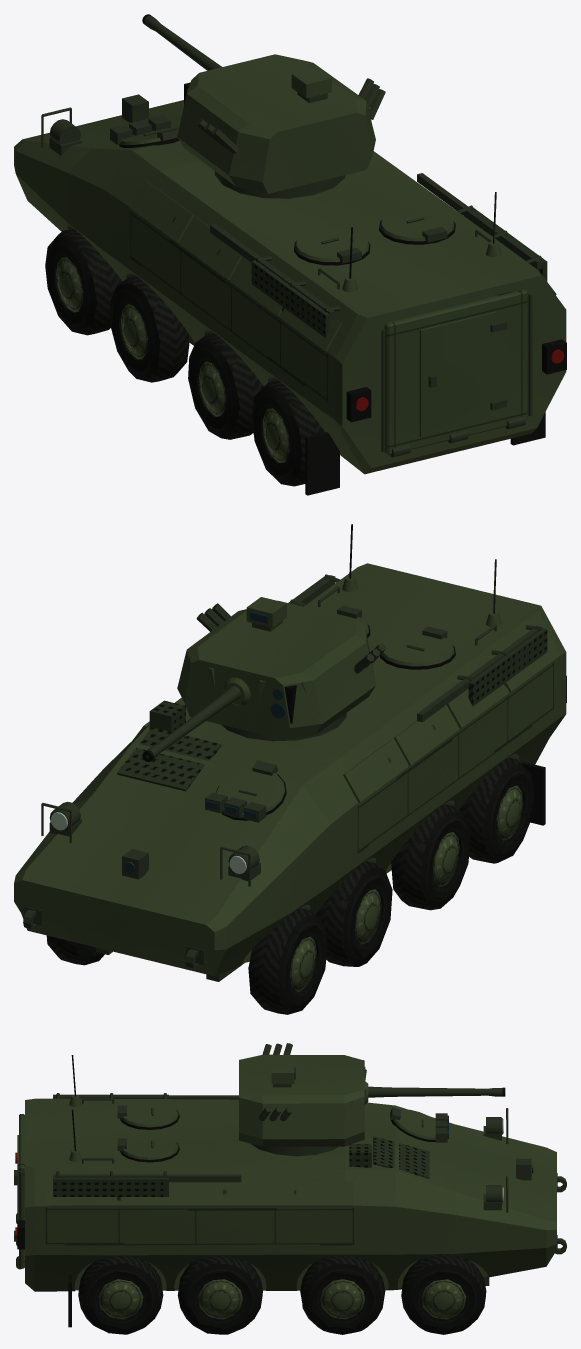
The model's file is cannon_apc_lod1.glb.
3 renders of one model, top to bottom at view 1: azimuth 30°, elevation 25°; view 2: azimuth 150°, elevation 25°; view 3: azimuth 270°, elevation 25°, orthographic. The views are drawn at different scales.
Parts seen in each view (by area): view 1: hull, dragoon_turret, ramp, wheel_L_2, wheel_L_3, wheel_L_1, wheel_L_0, dragoon_cannon; view 2: hull, dragoon_turret, wheel_L_3, wheel_L_1, wheel_L_2, wheel_L_0, dragoon_cannon, wheel_R_3; view 3: hull, dragoon_turret, wheel_R_3, wheel_R_1, wheel_R_2, wheel_R_0, dragoon_cannon, ramp.
Boxes of the visible parts, x1,y1,x2,y2 form: hull: (14,94,566,495); dragoon_turret: (177,54,385,198); ramp: (384,289,527,454); wheel_L_2: (110,276,189,382); wheel_L_3: (45,228,122,335); wheel_L_1: (188,333,263,439); wheel_L_0: (252,380,324,486); dragoon_cannon: (142,14,221,70); hull: (14,524,566,981); dragoon_turret: (177,597,385,741); wheel_L_3: (248,908,327,1014); wheel_L_1: (391,804,470,910); wheel_L_2: (315,861,392,966); wheel_L_0: (459,757,534,863); dragoon_cannon: (142,677,250,761); wheel_R_3: (46,935,104,965); hull: (15,1055,566,1327); dragoon_turret: (239,1043,366,1156); wheel_R_3: (401,1255,486,1334); wheel_R_1: (177,1256,262,1334); wheel_R_2: (300,1255,385,1334); wheel_R_0: (78,1256,163,1334); dragoon_cannon: (364,1081,505,1104); ramp: (14,1114,24,1268).
Bounding box in the file's own units: 2.91 × 3.42 × 7.33.
1 material, 1 textured.
